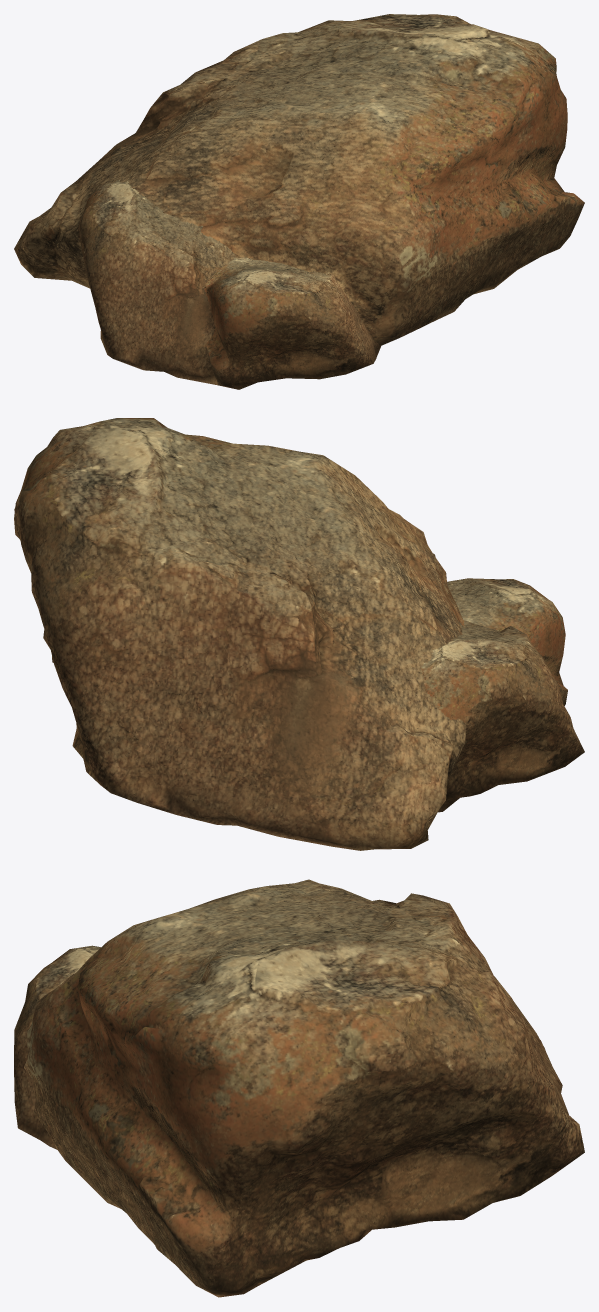
File: mm6_deco_rock05.glb
The picture shows the model from 3 angles, top to bottom: view 1: azimuth 30°, elevation 25°; view 2: azimuth 150°, elevation 25°; view 3: azimuth 270°, elevation 25°; orthographic projection. The views are drawn at different scales.
Parts seen in each view (by area): view 1: Rock05; view 2: Rock05; view 3: Rock05.
Part boxes in pixels (x1,y1,x2,y2): Rock05: (14, 14, 584, 389); Rock05: (14, 418, 584, 850); Rock05: (14, 879, 584, 1297).
Size of the model in its own units: 3.54 by 1.64 by 2.92.
Materials: 1 (1 with a texture image).
